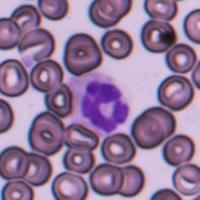N: (76, 71, 130, 138)
